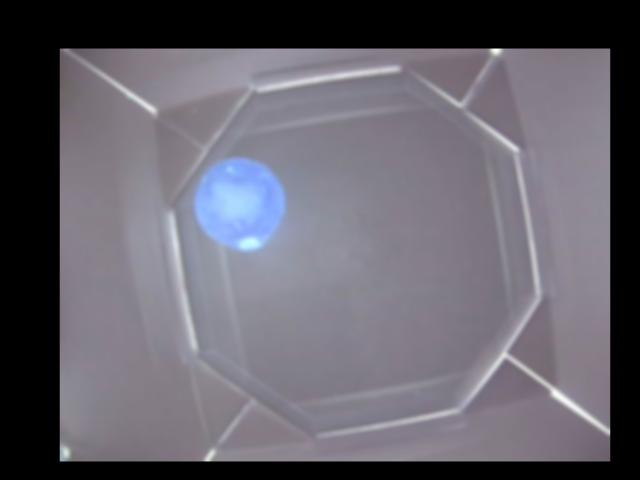Potato: (197, 161, 282, 252)
